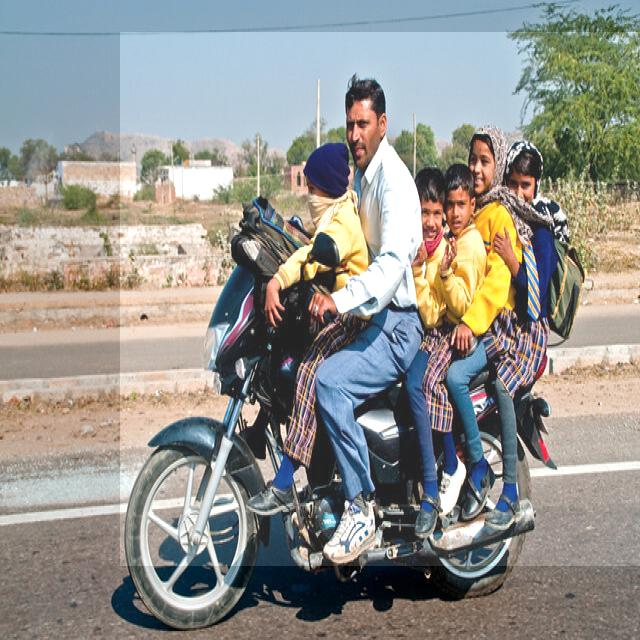Overloading: (120, 32, 640, 566)
